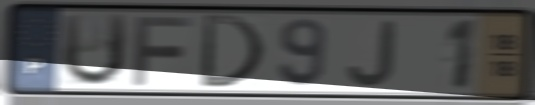1: (439, 17, 480, 93)
9: (274, 17, 330, 89)
D: (196, 12, 269, 91)
F: (130, 13, 197, 88)
J: (344, 18, 399, 90)
U: (59, 11, 131, 89)
